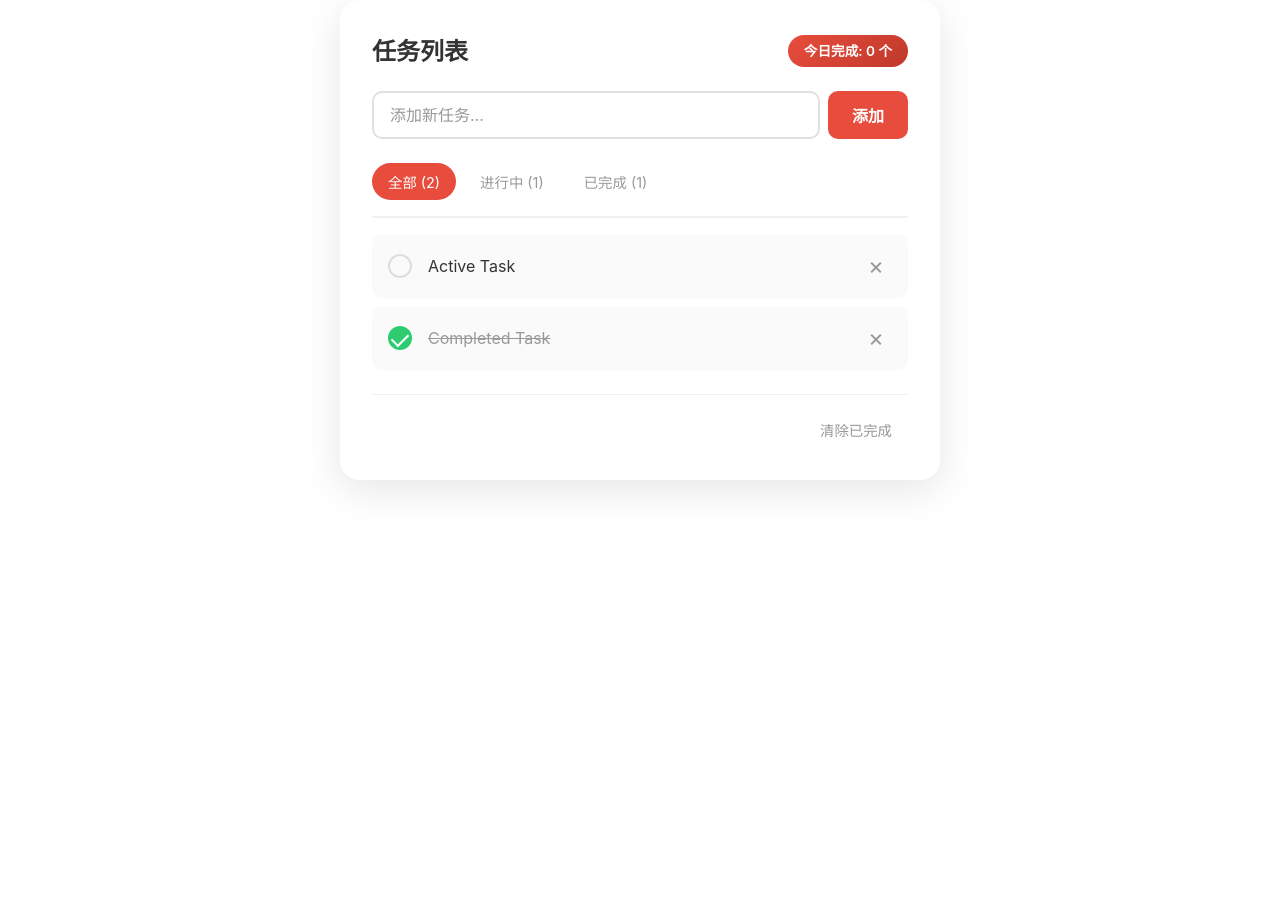
Scenario: TaskList › clear completed › removes completed tasks after confirm
This screenshot has width=1280, height=900.
Step 1. Click the button "清除已完成" → click(856, 430), box [804,411,908,448]
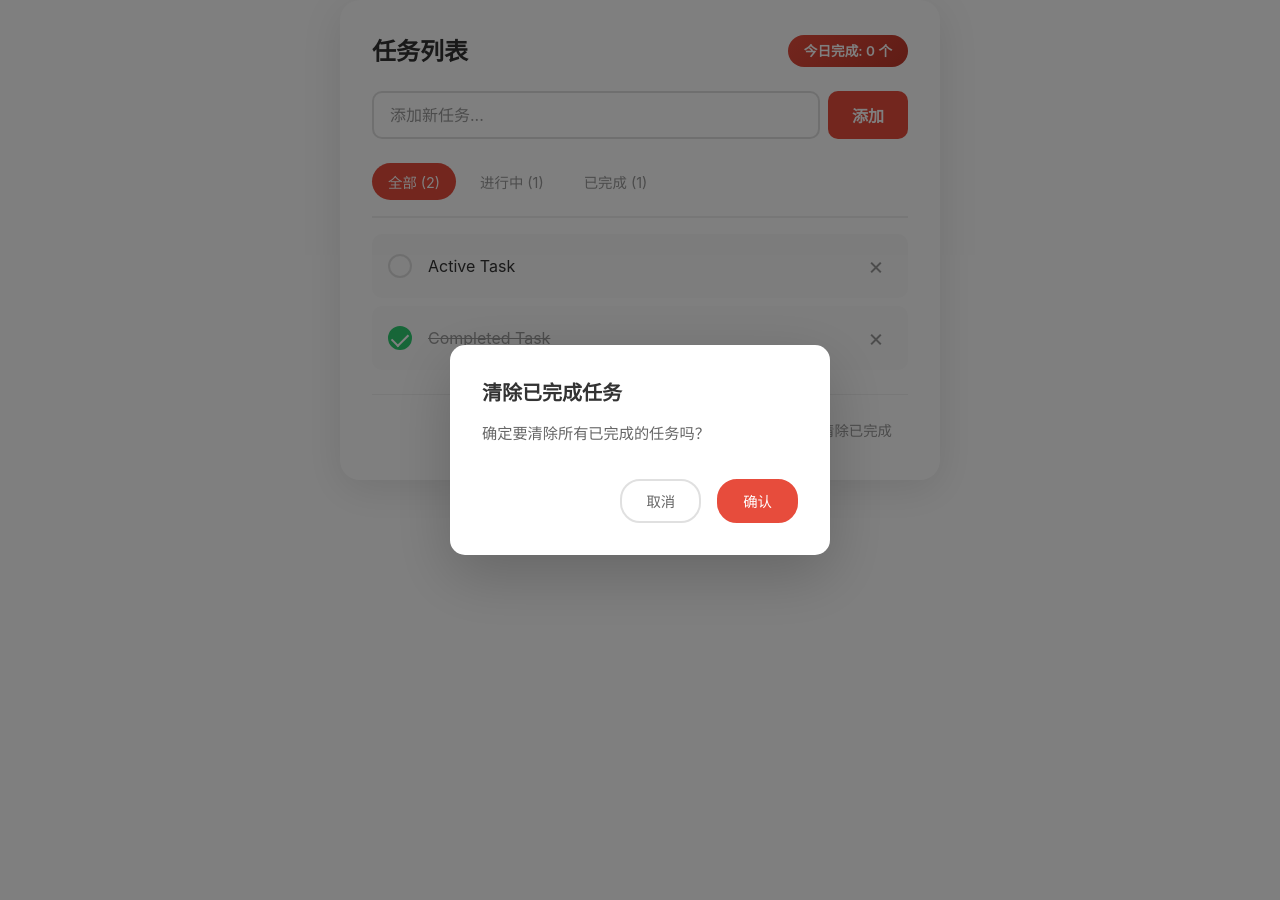
Step 2. Click the button "确认" → click(758, 501), box [717,479,798,523]
Wait 300 ms
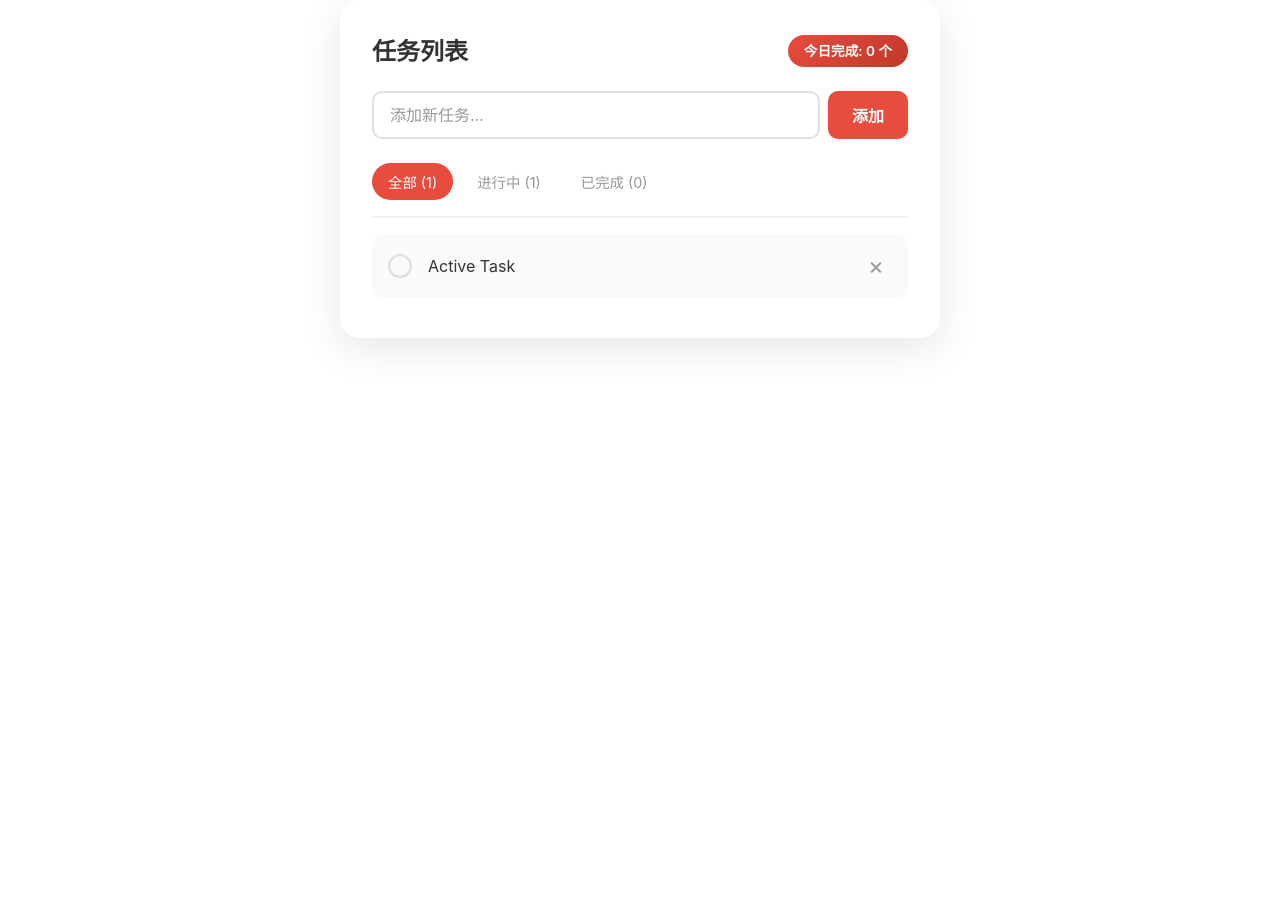
Expected: the text "Active Task" is shown, [428,256,515,276]
Result: the text "Completed Task" is gone
